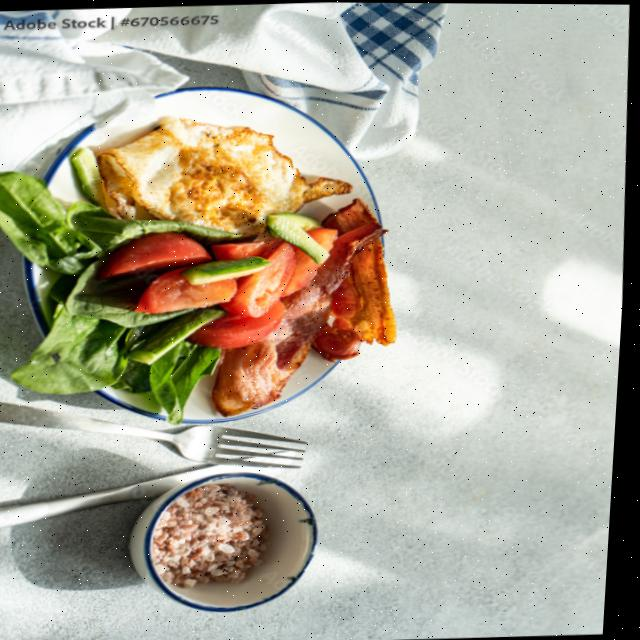Bacon: (216, 222, 388, 415), (345, 238, 398, 344), (325, 198, 377, 233)
Egg: (98, 117, 353, 235)
